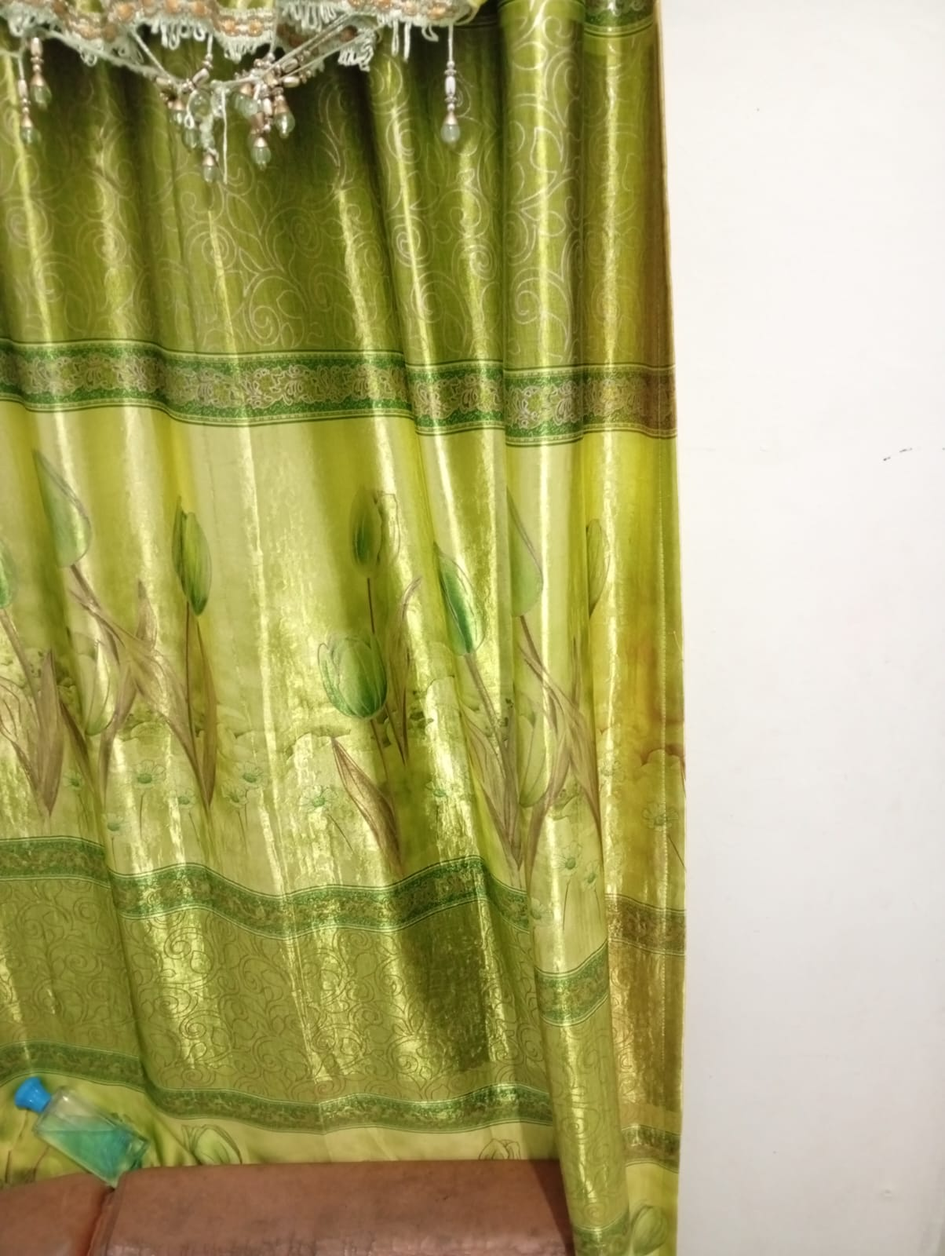Parfum: (0, 1125, 103, 1256)
